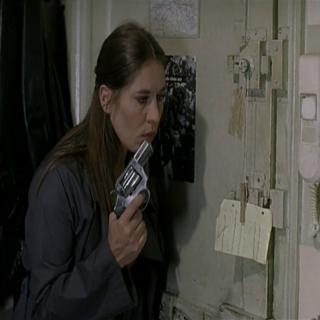gun: (108, 138, 154, 256)
